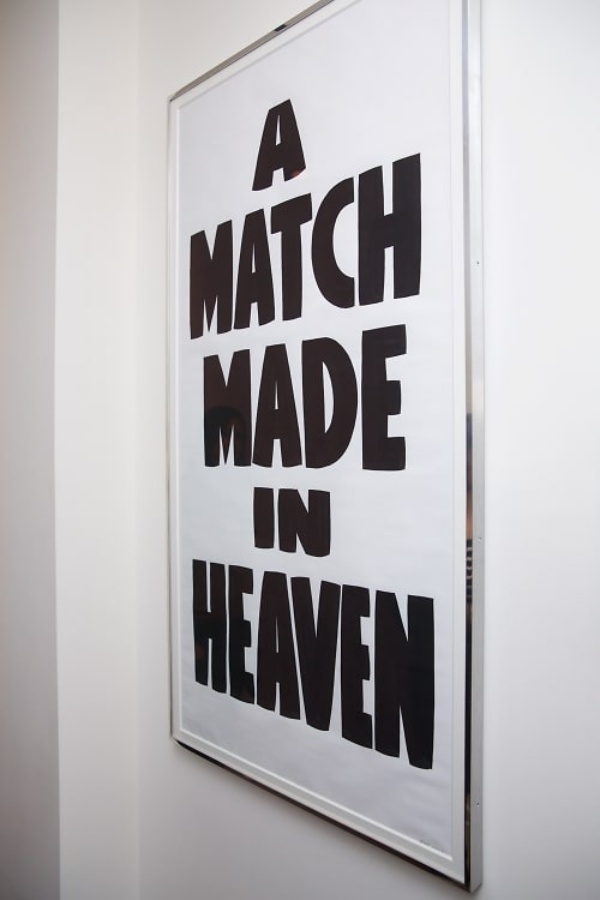text: (193, 556, 208, 778), (209, 556, 224, 778), (225, 556, 240, 778), (241, 556, 256, 778), (257, 556, 272, 778), (273, 556, 288, 778), (289, 556, 304, 778), (305, 556, 320, 778), (321, 556, 336, 778), (337, 556, 352, 778), (353, 556, 368, 778), (369, 556, 384, 778), (385, 556, 400, 778), (401, 556, 416, 778), (417, 556, 432, 778), (193, 151, 208, 341), (209, 151, 224, 341), (225, 151, 240, 341), (241, 151, 256, 341), (257, 151, 272, 341), (273, 151, 288, 341), (289, 151, 304, 341), (305, 151, 320, 341), (321, 151, 336, 341), (337, 151, 352, 341), (353, 151, 368, 341), (369, 151, 384, 341), (385, 151, 400, 341), (401, 151, 416, 341), (209, 321, 224, 472), (225, 321, 240, 472), (241, 321, 256, 472), (257, 321, 272, 472), (273, 321, 288, 472), (289, 321, 304, 472), (305, 321, 320, 472), (321, 321, 336, 472), (337, 321, 352, 472), (353, 321, 368, 472), (369, 321, 384, 472), (385, 321, 400, 472), (273, 97, 288, 194), (289, 97, 304, 194), (401, 321, 409, 472), (257, 485, 272, 562), (273, 485, 288, 562), (289, 485, 304, 562), (305, 485, 320, 562), (417, 151, 422, 341), (202, 321, 208, 472), (321, 485, 332, 562), (433, 556, 436, 778), (266, 97, 272, 194), (189, 151, 192, 341), (305, 97, 310, 194), (190, 556, 192, 778), (251, 485, 256, 562)
